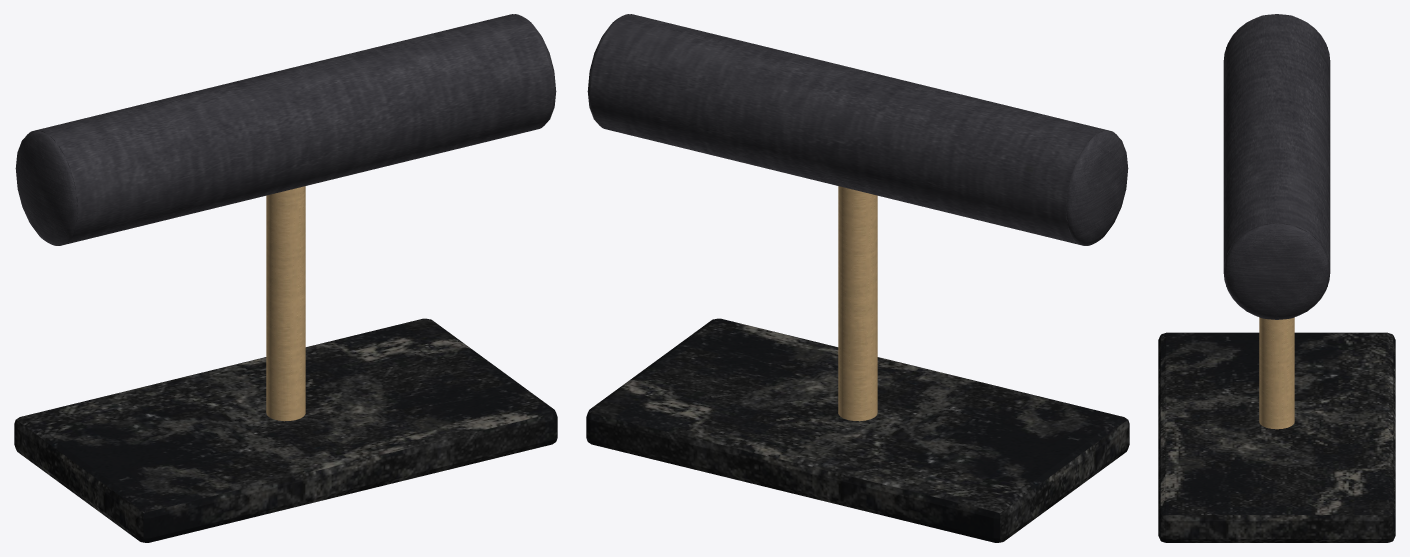
The model's file is BraceletStand_Hero.obj.
3 views of the same model, side by side, from view 1: azimuth 30°, elevation 25°; view 2: azimuth 150°, elevation 25°; view 3: azimuth 270°, elevation 25° (orthographic). The views are drawn at different scales.
Parts seen in each view (by area): view 1: BraceletStand_Hero_Opaque; view 2: BraceletStand_Hero_Opaque; view 3: BraceletStand_Hero_Opaque.
Boxes of the visible parts, bbox=[...] form: BraceletStand_Hero_Opaque: bbox=[14, 14, 557, 542]; BraceletStand_Hero_Opaque: bbox=[586, 14, 1129, 542]; BraceletStand_Hero_Opaque: bbox=[1158, 14, 1395, 542].
Bounding box in the file's own units: 0.264 × 0.187 × 0.12.
Materials: 3 (3 with a texture image).
